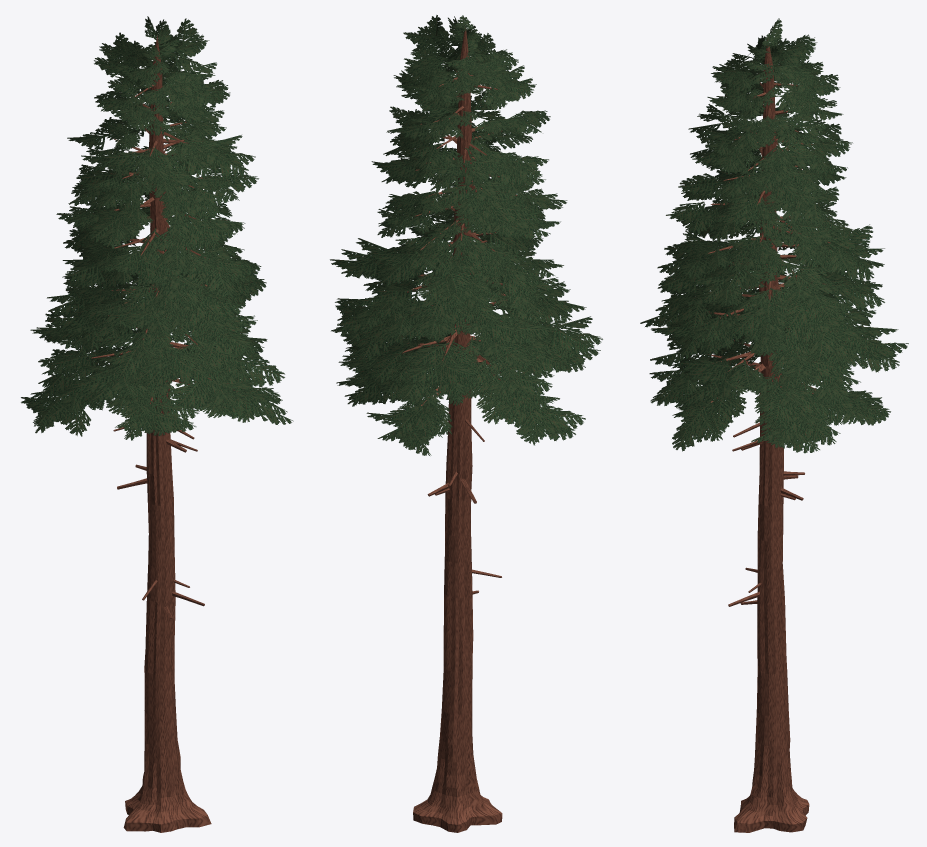
Rendered from environment_redwood1_v2.fbx.
3 renders of one model, left to right at view 1: azimuth 30°, elevation 25°; view 2: azimuth 150°, elevation 25°; view 3: azimuth 270°, elevation 25°, orthographic.
Visible parts, largest first — view 1: environment_redwood1_v2_lod0; view 2: environment_redwood1_v2_lod0; view 3: environment_redwood1_v2_lod0.
Part boxes in pixels (x1,y1,x2,y2): environment_redwood1_v2_lod0: [21, 16, 293, 832]; environment_redwood1_v2_lod0: [330, 15, 602, 832]; environment_redwood1_v2_lod0: [640, 18, 908, 832].
Size of what is drawn, in the model's own units: 2999 by 9479 by 2996.
